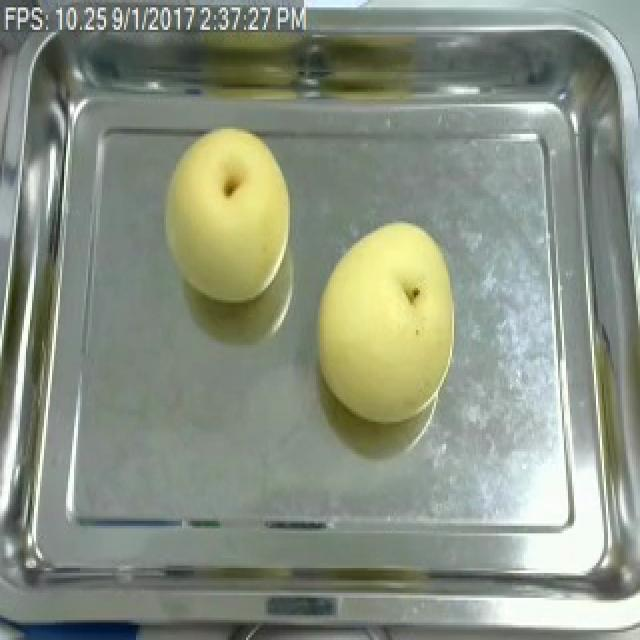Fruit: (308, 211, 464, 429), (152, 116, 300, 308)
